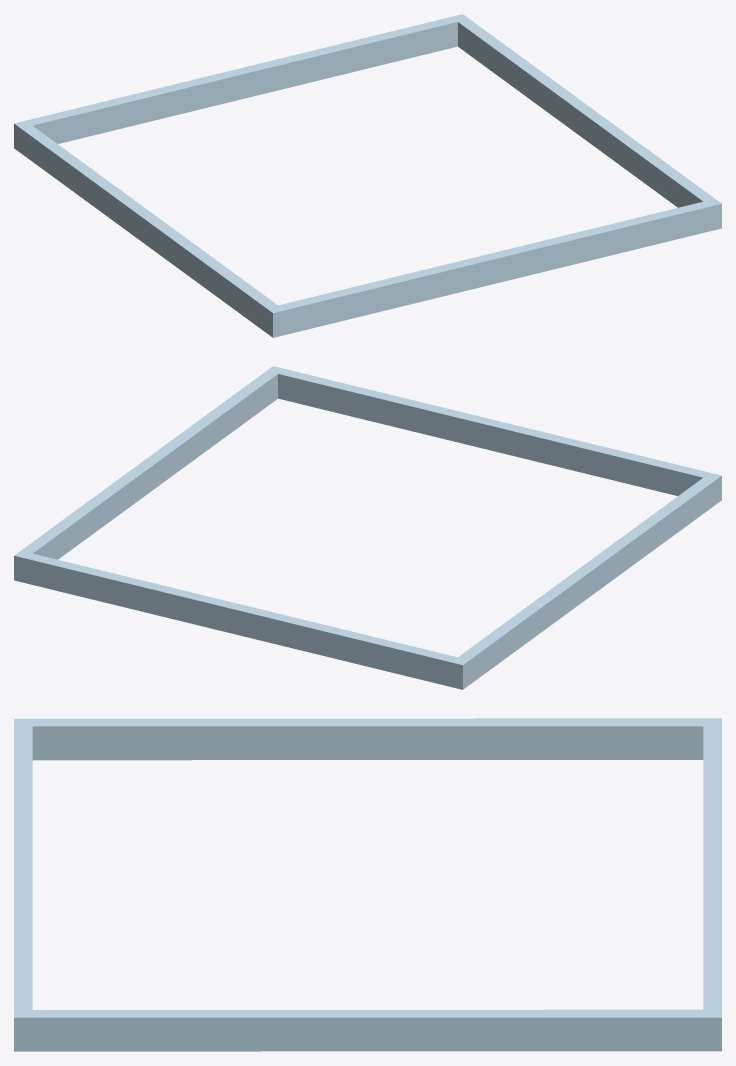
Rendered from worldwalls.dae.
3 renders of one model, top to bottom at view 1: azimuth 30°, elevation 25°; view 2: azimuth 150°, elevation 25°; view 3: azimuth 270°, elevation 25°, orthographic. The views are drawn at different scales.
Parts seen in each view (by area): view 1: mesh4, mesh9, mesh0, mesh8, mesh1; view 2: mesh4, mesh7, mesh2, mesh8, mesh1; view 3: mesh6, mesh3, mesh4.
Part boxes in pixels (left/top/right/bottom): mesh4: left=14, top=14, right=721, bottom=313; mesh9: left=273, top=204, right=721, bottom=337; mesh0: left=33, top=22, right=457, bottom=143; mesh8: left=14, top=124, right=272, bottom=337; mesh1: left=458, top=22, right=702, bottom=207; mesh4: left=14, top=366, right=721, bottom=664; mesh7: left=14, top=555, right=462, bottom=689; mesh2: left=278, top=374, right=702, bottom=495; mesh8: left=463, top=476, right=721, bottom=689; mesh1: left=33, top=374, right=277, bottom=559; mesh6: left=14, top=1017, right=721, bottom=1051; mesh3: left=32, top=726, right=703, bottom=760; mesh4: left=14, top=718, right=721, bottom=1017.
Bounding box in the file's own units: 19 × 19 × 1.
